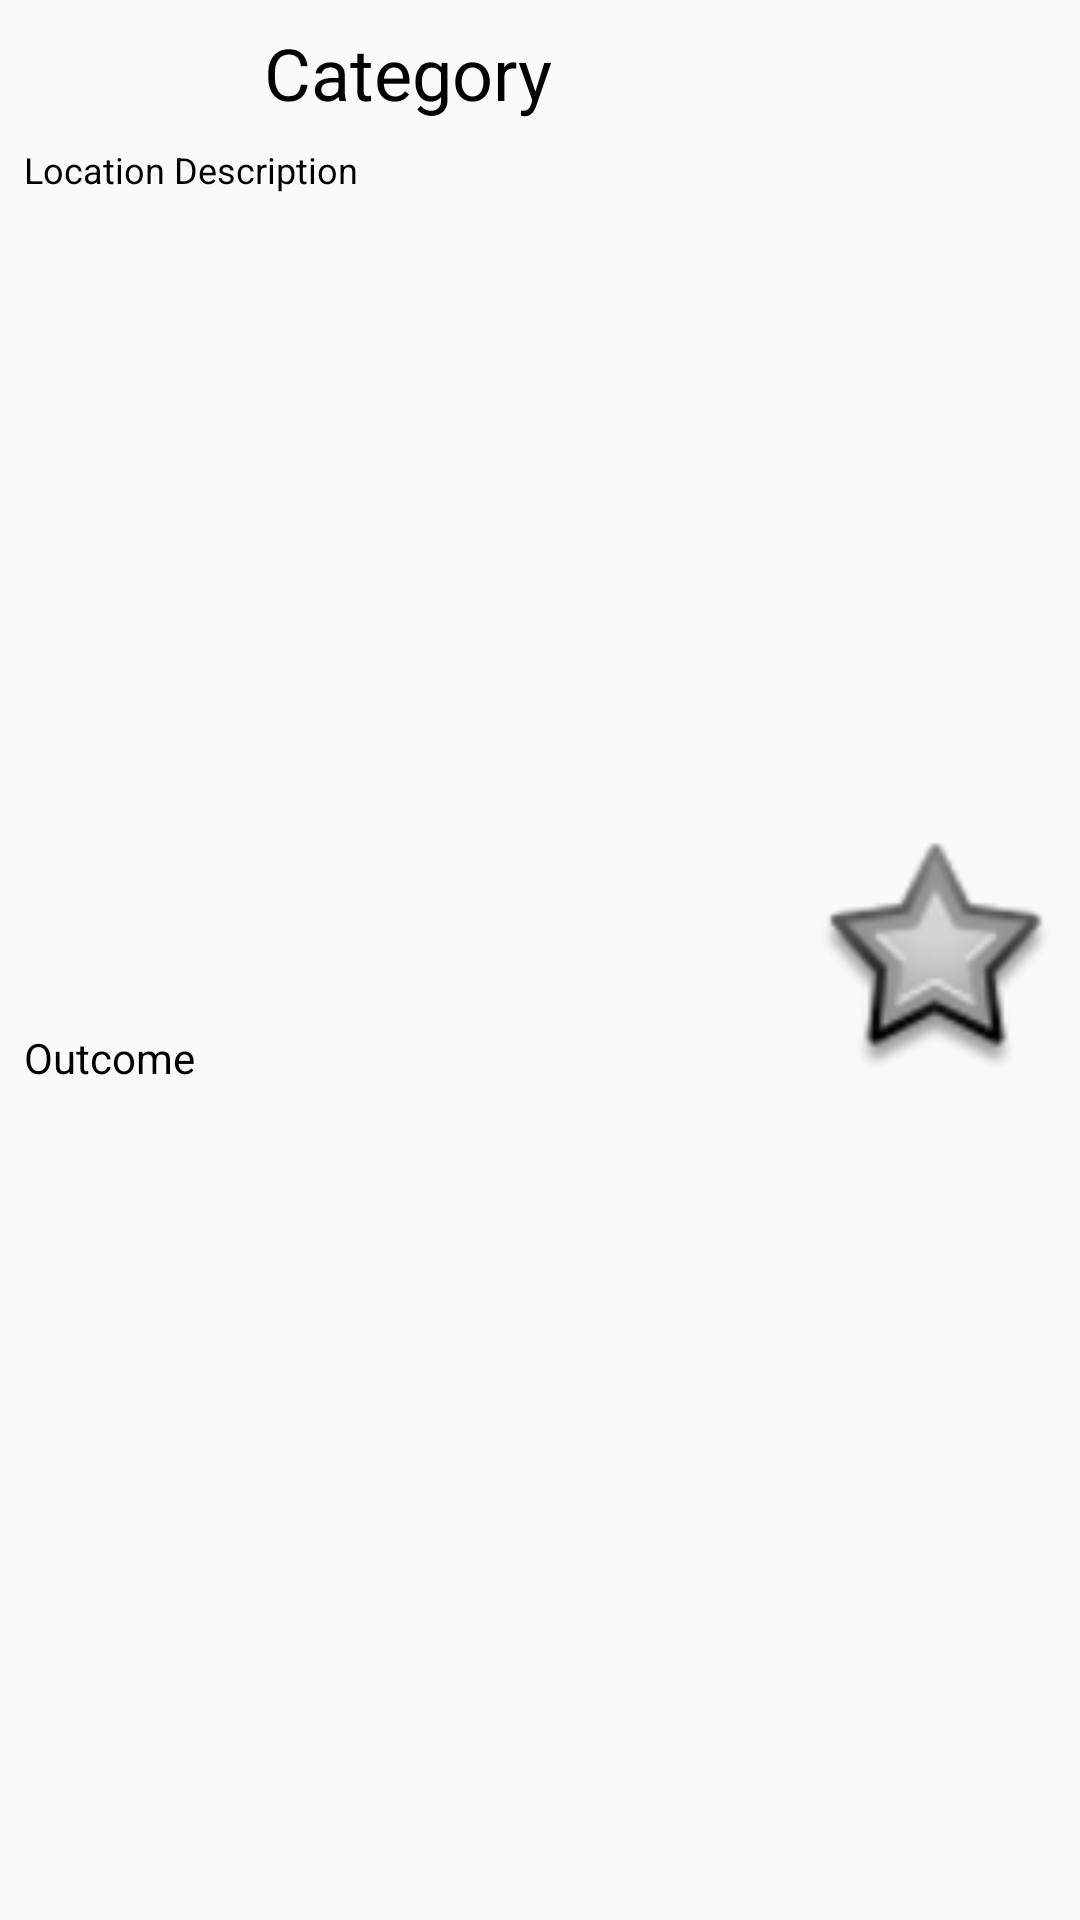

Where icons sit on this 1080px×1920px app screen, as region(x1, y1, x2, y2):
star off: region(829, 843, 1042, 1061)
